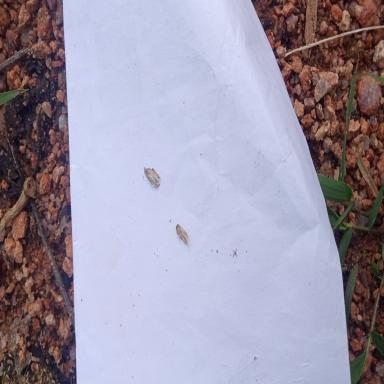pbw: (144, 167, 161, 188), (175, 224, 190, 247)
